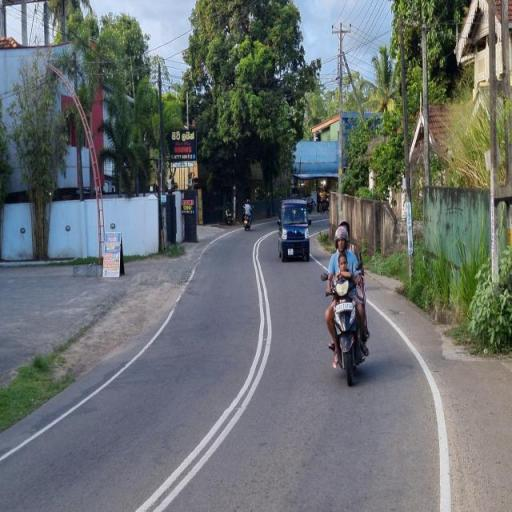double_white_line: (136, 226, 274, 510)
